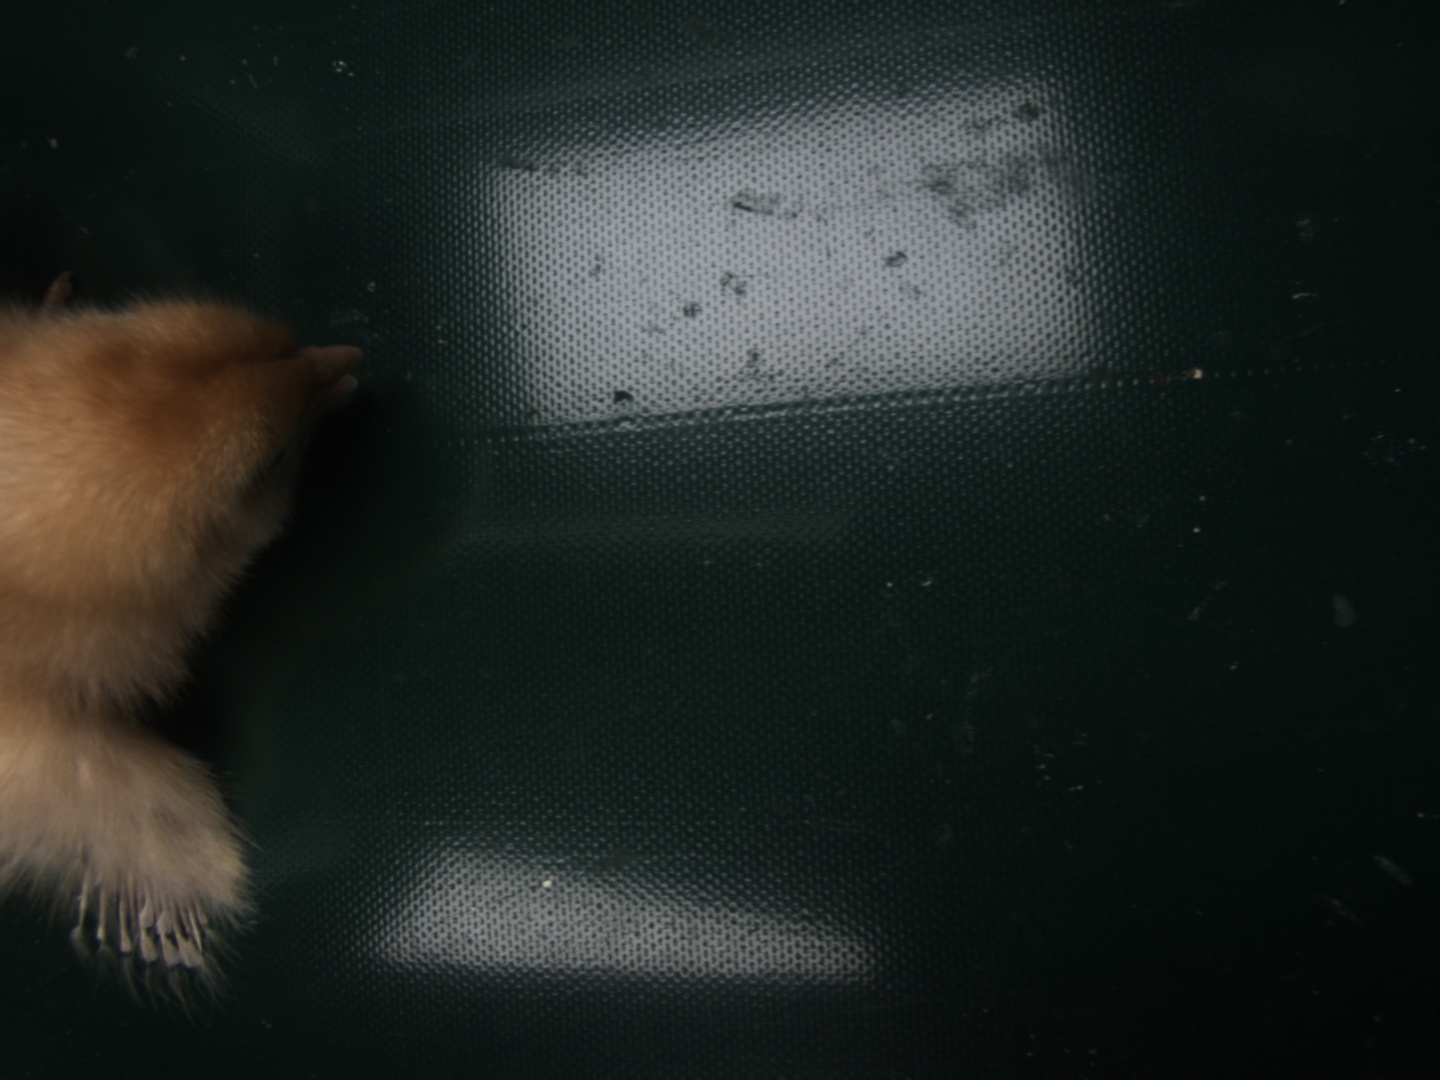female: (73, 870, 214, 974)
